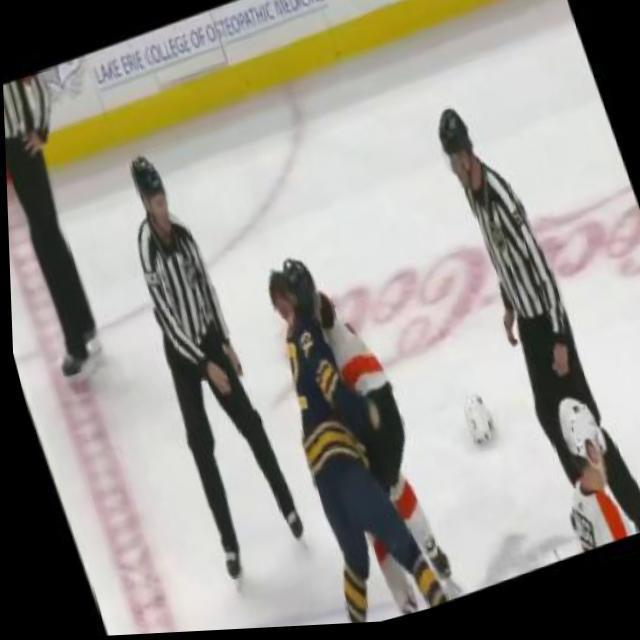fight: (226, 228, 467, 631)
